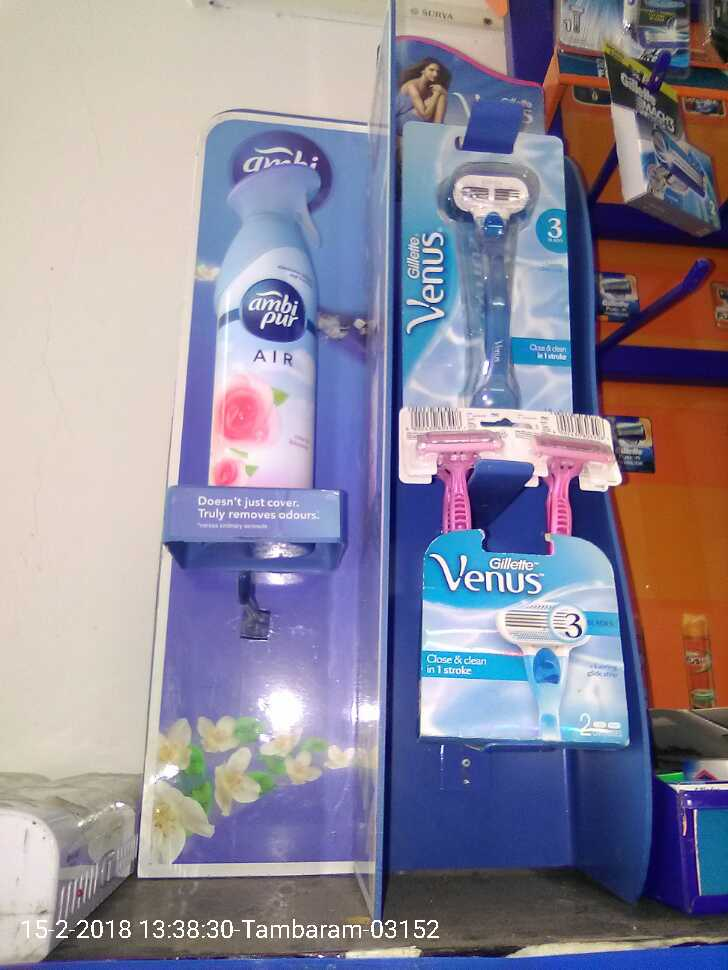beauty: (414, 126, 588, 410), (427, 525, 622, 749)
home: (211, 145, 327, 493)
